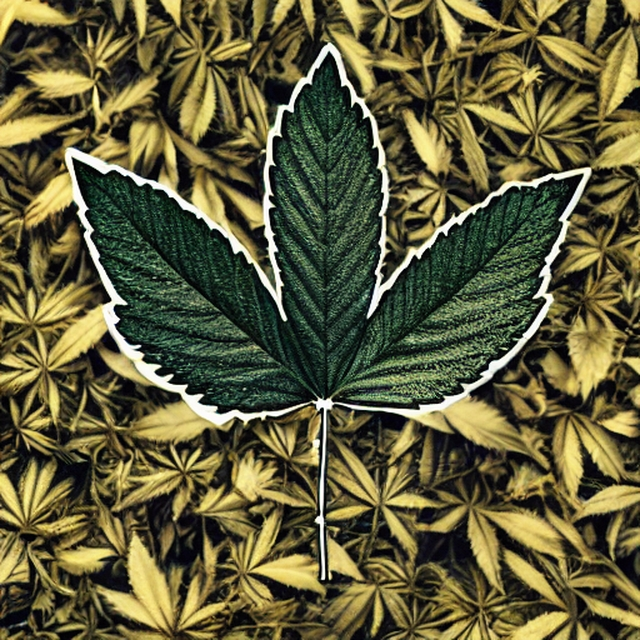Marijuana Leaf: (62, 40, 592, 581)
